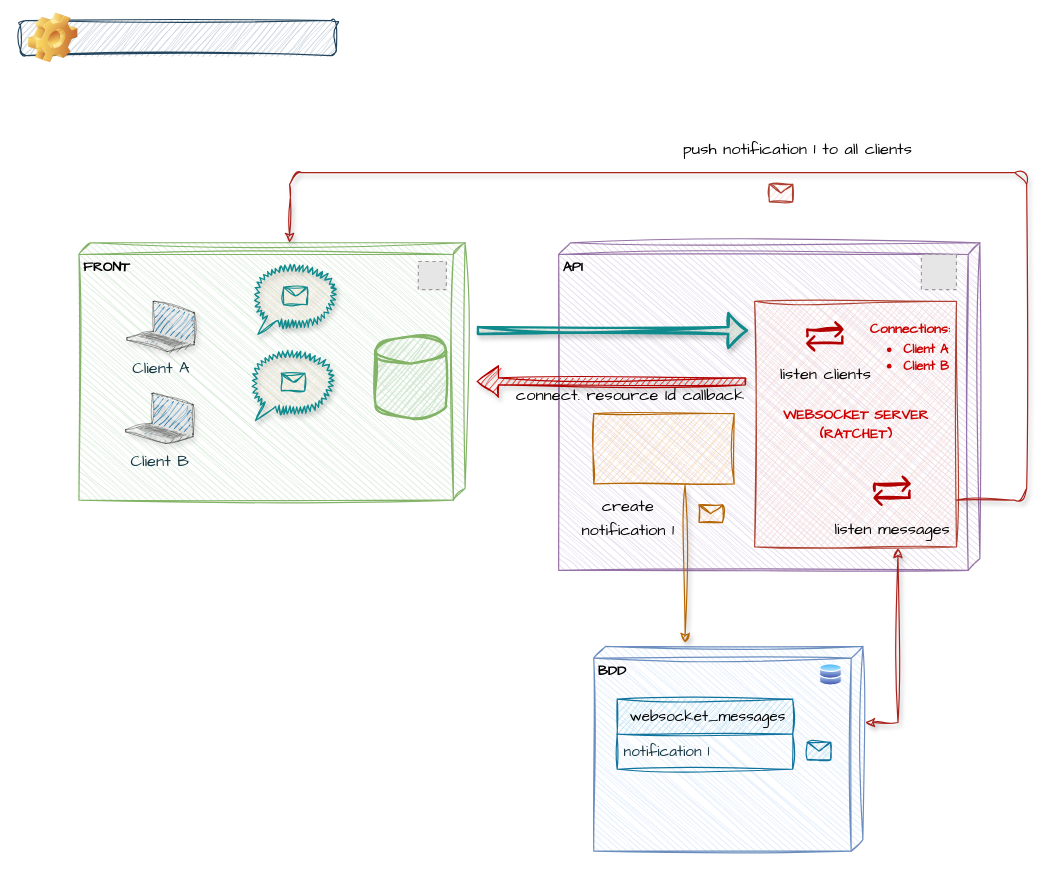
Some shapes in this 1064 by 872 pixel diagram are drawn without their labels. Grey dashed boxes stand in for pictures. Each missing label, with the centre of its shape:
local storage: point 410,377
Notification System Workflow: point 177,37
SYMFONY: point 663,448
WebSocket connection: point 613,332
